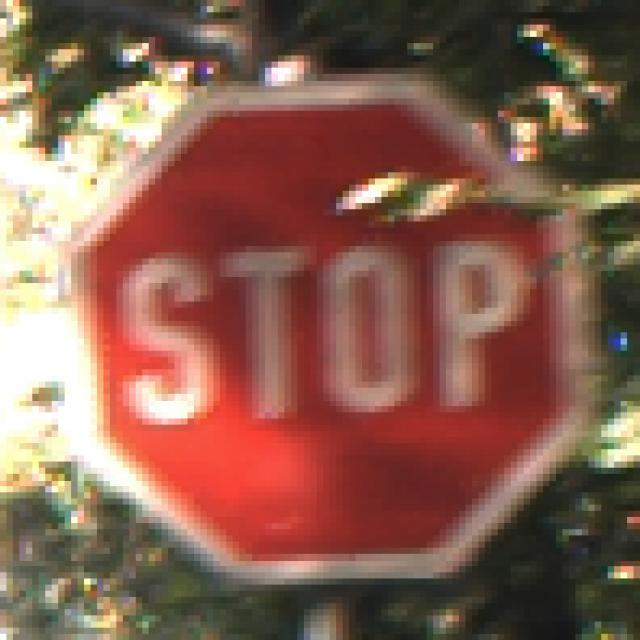STOP: (53, 63, 589, 586)
